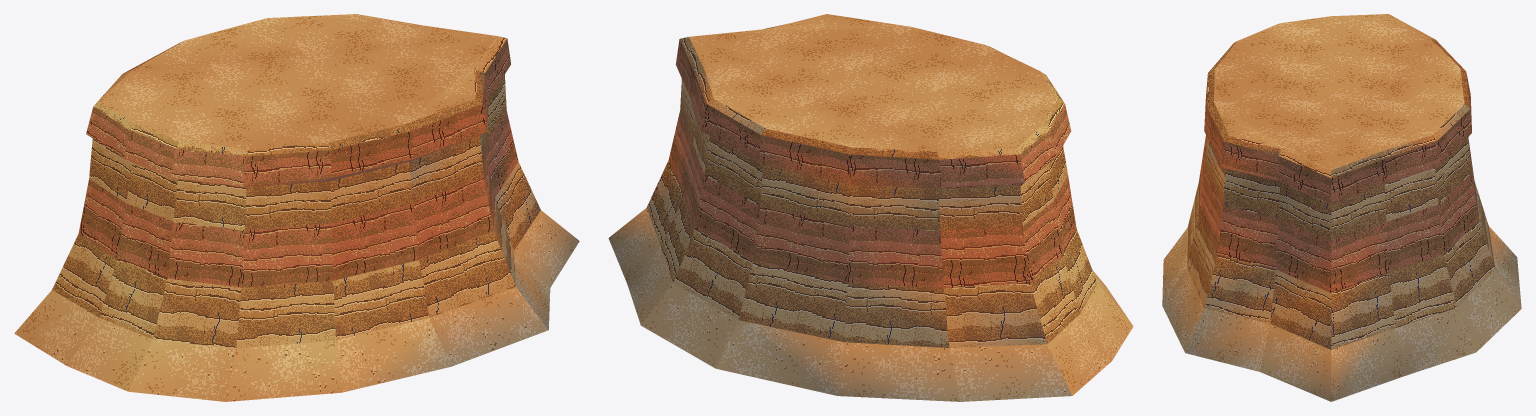
The model's file is wland.mesa__far.glb.
3 views of the same model, side by side, from view 1: azimuth 30°, elevation 25°; view 2: azimuth 150°, elevation 25°; view 3: azimuth 270°, elevation 25° (orthographic). The views are drawn at different scales.
Parts seen in each view (by area): view 1: kit_mesa; view 2: kit_mesa; view 3: kit_mesa.
Boxes of the visible parts, x1,y1,x2,y2 form: kit_mesa: [14, 14, 579, 401]; kit_mesa: [608, 14, 1133, 401]; kit_mesa: [1162, 14, 1521, 401].
Size of the model in its own units: 36.22 by 15 by 24.84.
4 materials, 4 textured.
